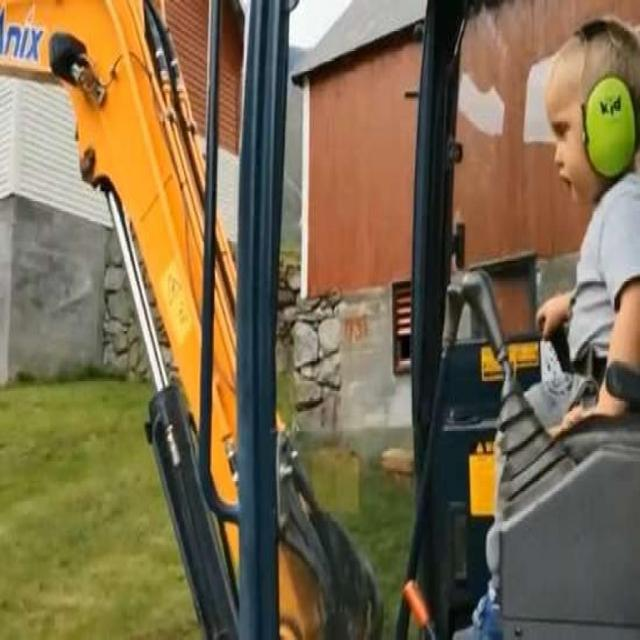nomask: (548, 62, 598, 207)
